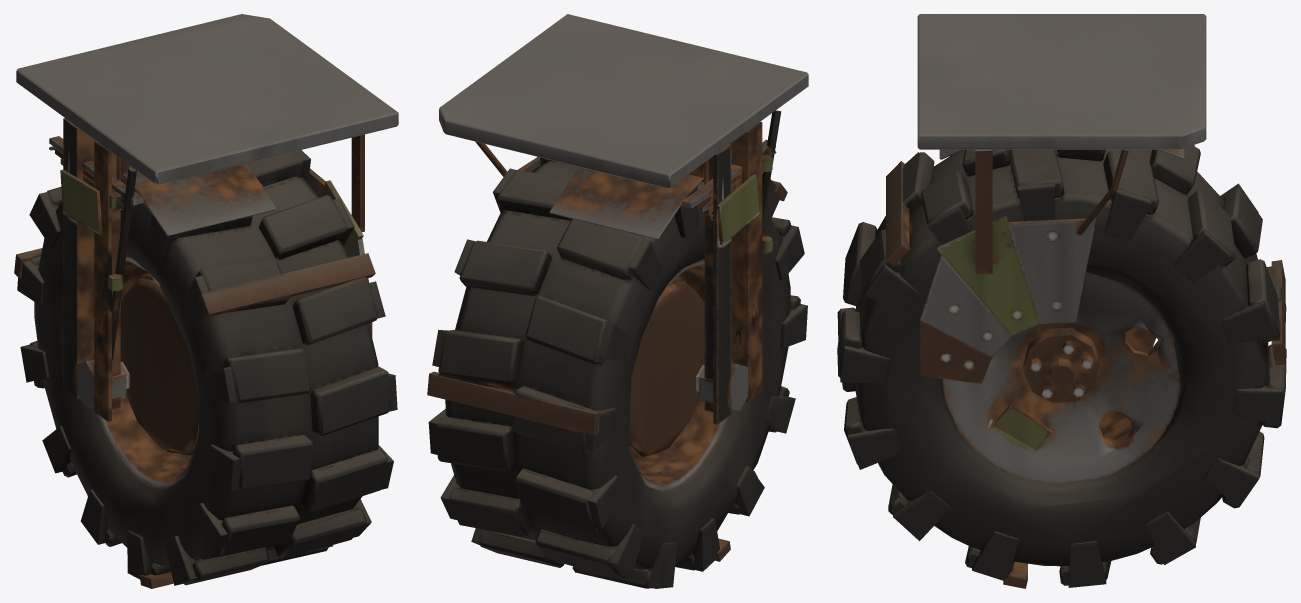
The model's file is R4M_Wheel_LOD1.fbx.
The picture shows the model from 3 angles, left to right: view 1: azimuth 30°, elevation 25°; view 2: azimuth 150°, elevation 25°; view 3: azimuth 270°, elevation 25°; orthographic projection. The views are drawn at different scales.
Parts seen in each view (by area): view 1: R4M_Wheel_LOD1; view 2: R4M_Wheel_LOD1; view 3: R4M_Wheel_LOD1.
Part boxes in pixels (box(x1,y1,x2,y2)): R4M_Wheel_LOD1: box(14, 14, 398, 588); R4M_Wheel_LOD1: box(427, 14, 808, 588); R4M_Wheel_LOD1: box(837, 14, 1286, 588).
Bounding box in the file's own units: 0.5064 × 0.909 × 0.778.
Materials: 1 (1 with a texture image).
